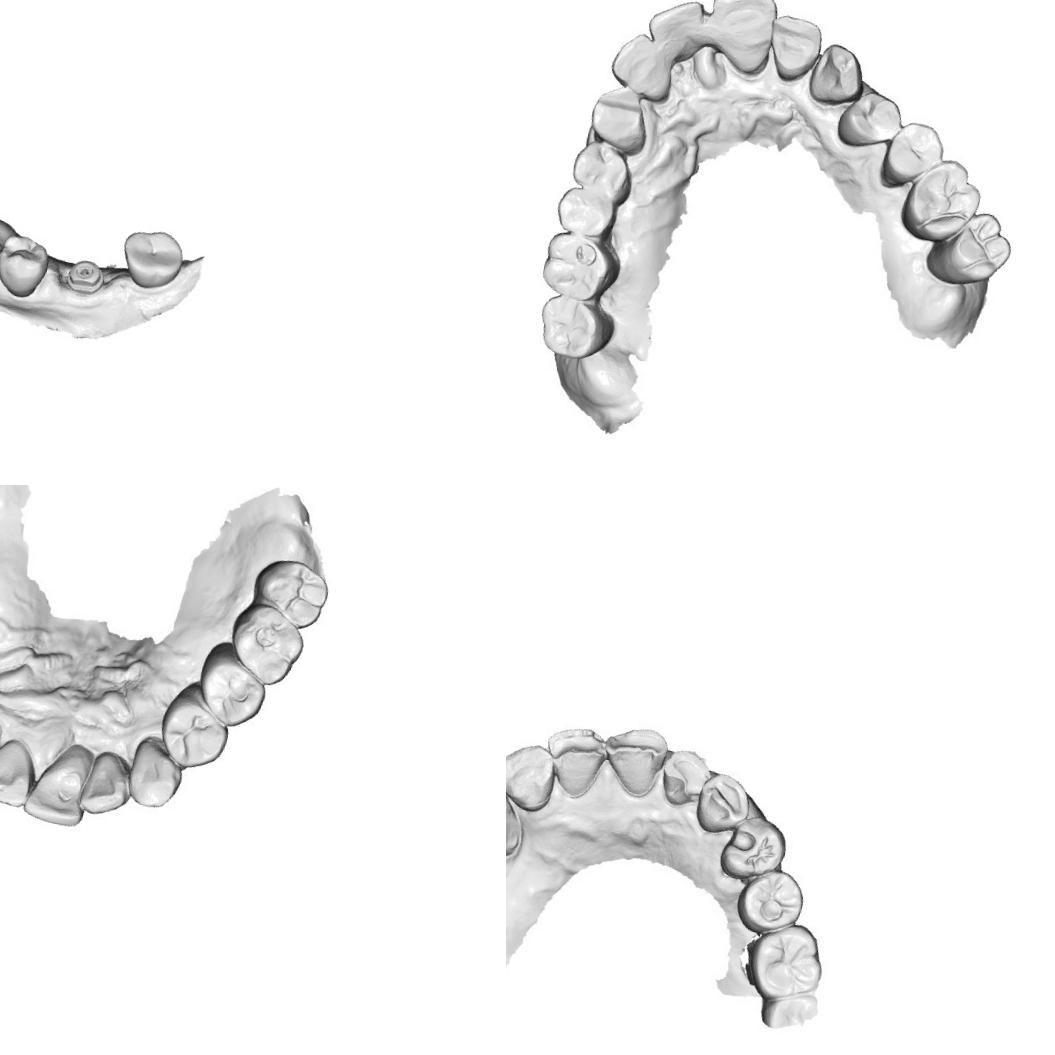canine: (119, 732, 187, 814), (584, 81, 654, 158), (690, 769, 756, 842), (804, 39, 870, 110), (506, 778, 534, 866)
implant_minus: (60, 253, 108, 297)
incisor: (24, 734, 100, 826), (699, 0, 781, 77), (605, 27, 679, 104), (600, 723, 670, 798), (760, 12, 825, 86), (542, 722, 606, 797), (77, 747, 139, 820), (640, 0, 708, 65), (506, 738, 560, 813), (658, 746, 713, 808), (0, 734, 39, 805)
molar: (896, 150, 987, 250), (921, 202, 1017, 294), (222, 596, 308, 689), (536, 228, 624, 306), (748, 922, 826, 1005), (250, 552, 335, 628), (531, 292, 618, 365)
premolar: (148, 675, 239, 773), (182, 635, 274, 731), (876, 116, 948, 198), (113, 222, 189, 294), (566, 136, 638, 208), (832, 84, 905, 154), (722, 815, 786, 880), (740, 866, 804, 929), (551, 183, 620, 241), (0, 229, 54, 302)
